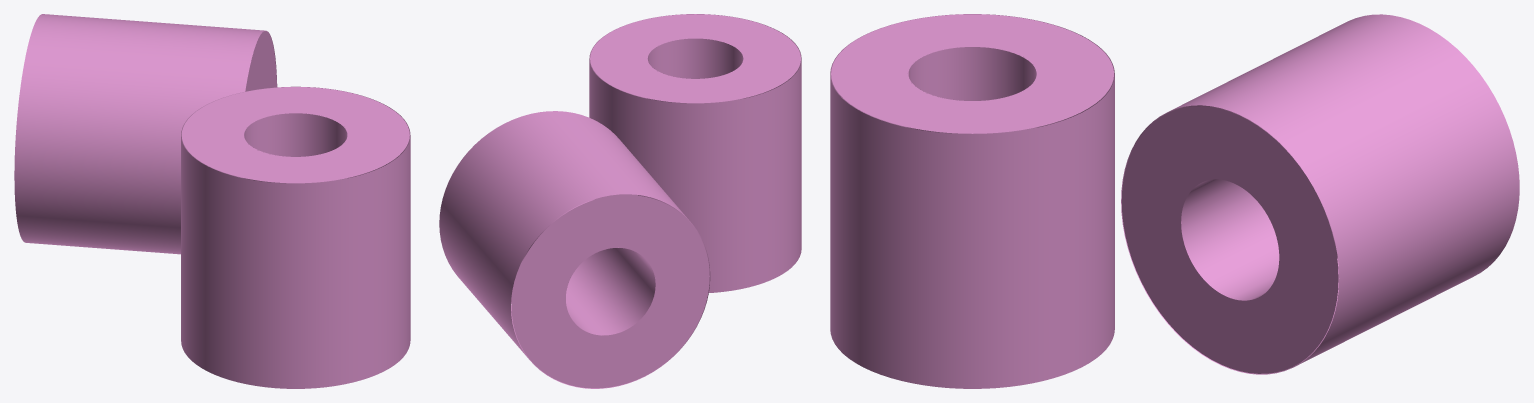
The model's file is Toilet paper.obj.
The picture shows the model from 3 angles, left to right: view 1: azimuth 30°, elevation 25°; view 2: azimuth 150°, elevation 25°; view 3: azimuth 270°, elevation 25°; orthographic projection. The views are drawn at different scales.
Visible parts, largest first — view 1: Object001, Object007, Object004, Object002, Object006; view 2: Object001, Object007, Object008, Object004, Object005, Object002; view 3: Object001, Object007, Object006, Object004, Object005, Object002.
Part boxes in pixels (bbox=[...]): Object001: bbox=[181, 86, 410, 388]; Object007: bbox=[14, 14, 277, 254]; Object004: bbox=[181, 87, 409, 183]; Object002: bbox=[243, 113, 347, 183]; Object006: bbox=[245, 31, 276, 91]; Object001: bbox=[589, 14, 801, 292]; Object007: bbox=[439, 111, 710, 388]; Object008: bbox=[511, 195, 709, 388]; Object004: bbox=[590, 14, 800, 103]; Object005: bbox=[522, 199, 655, 335]; Object002: bbox=[647, 38, 743, 103]; Object001: bbox=[830, 14, 1114, 388]; Object007: bbox=[1121, 14, 1519, 374]; Object006: bbox=[1121, 106, 1338, 373]; Object004: bbox=[831, 14, 1113, 133]; Object005: bbox=[1181, 142, 1337, 300]; Object002: bbox=[907, 47, 1037, 134].
Size of the model in its own units: 22.77 by 16.28 by 39.42.
